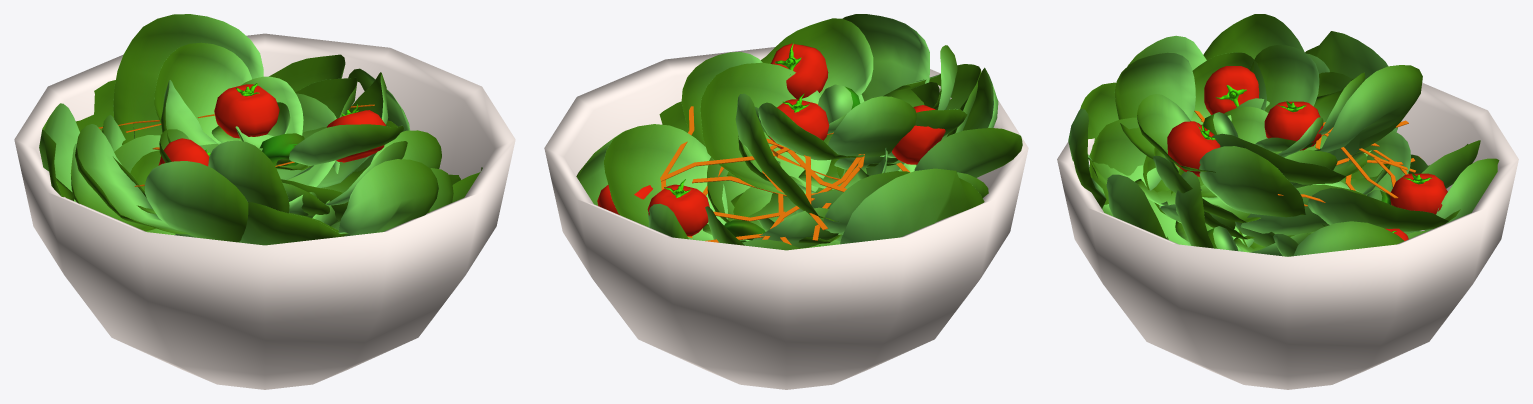
File: Supermarket_Run_Salad.fbx
3 renders of one model, left to right at view 1: azimuth 30°, elevation 25°; view 2: azimuth 150°, elevation 25°; view 3: azimuth 270°, elevation 25°, orthographic. The views are drawn at different scales.
Visible parts, largest first — view 1: Supermarket_Run_Bowl, Supermarket_Run_Salad; view 2: Supermarket_Run_Salad, Supermarket_Run_Bowl; view 3: Supermarket_Run_Salad, Supermarket_Run_Bowl.
Boxes of the visible parts, left/top/right/bottom form: Supermarket_Run_Bowl: left=14, top=33, right=515, bottom=389; Supermarket_Run_Salad: left=39, top=14, right=482, bottom=245; Supermarket_Run_Salad: left=576, top=14, right=1022, bottom=250; Supermarket_Run_Bowl: left=544, top=47, right=1028, bottom=389; Supermarket_Run_Salad: left=1068, top=14, right=1499, bottom=256; Supermarket_Run_Bowl: left=1057, top=83, right=1518, bottom=389.
Bounding box in the file's own units: 160 × 112 × 160.
